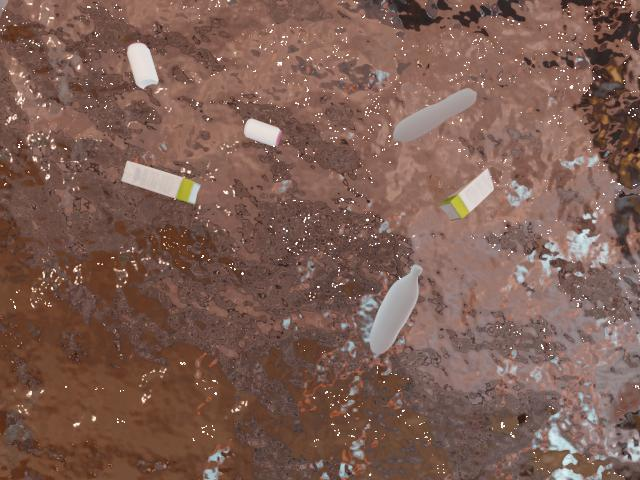Metal: (222, 102, 299, 158), (117, 33, 175, 99)
Plastic: (357, 263, 436, 354), (384, 79, 480, 146)
Trash: (118, 149, 204, 230), (431, 164, 514, 223)
